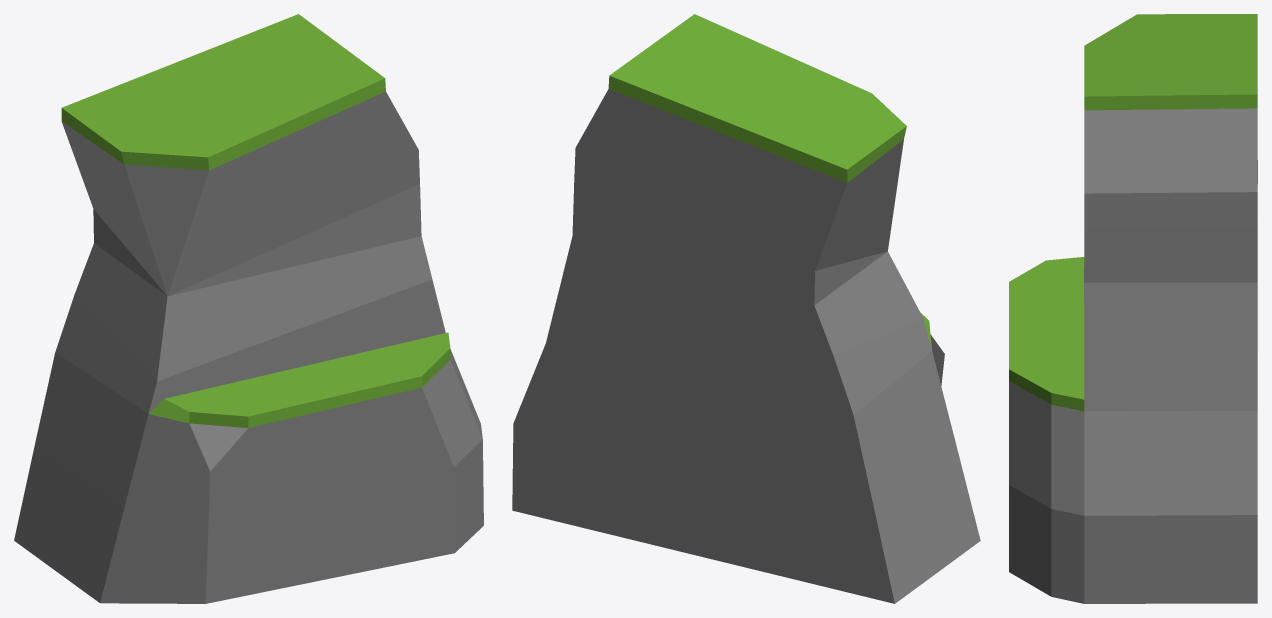
Rendered from SM_Rock_Small.fbx.
3 views of the same model, side by side, from view 1: azimuth 30°, elevation 25°; view 2: azimuth 150°, elevation 25°; view 3: azimuth 270°, elevation 25° (orthographic).
Visible parts, largest first — view 1: Rock.002; view 2: Rock.002; view 3: Rock.002.
Boxes of the visible parts, x1,y1,x2,y2 form: Rock.002: (14,14,483,603); Rock.002: (512,14,980,603); Rock.002: (1009,14,1257,603).
Size of the model in its own units: 772 by 882 by 431.
